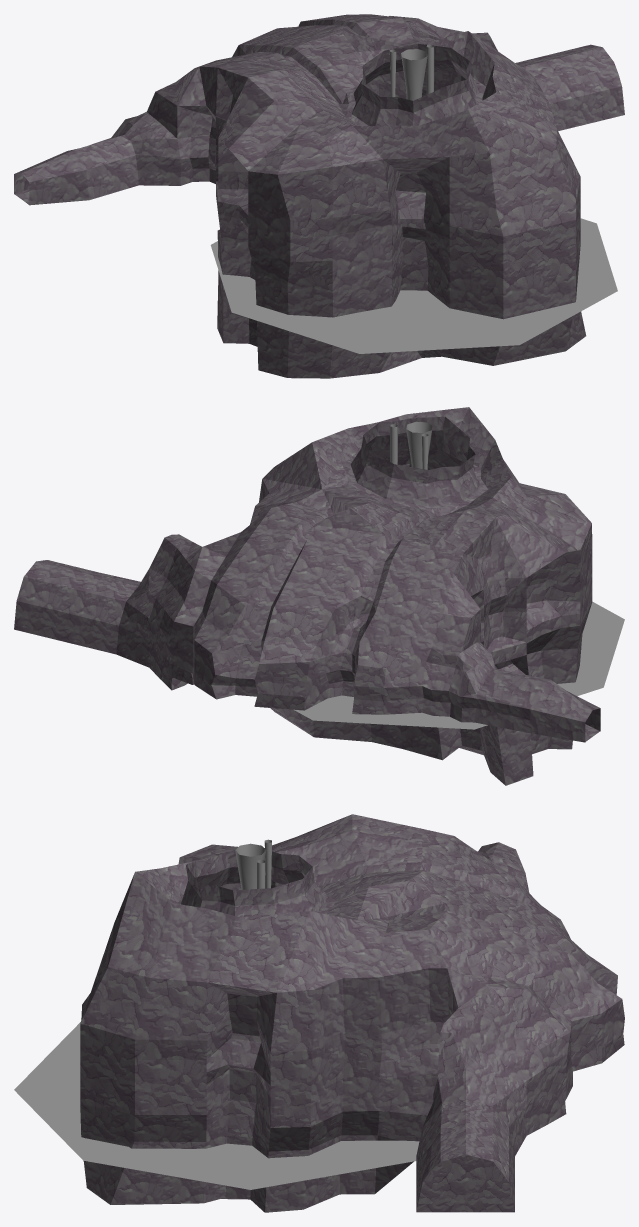
3 views of the same model, one above another, from view 1: azimuth 30°, elevation 25°; view 2: azimuth 150°, elevation 25°; view 3: azimuth 270°, elevation 25° (orthographic). The views are drawn at different scales.
Parts seen in each view (by area): view 1: lave_ncl1_1, lave; view 2: lave_ncl1_1, lave; view 3: lave_ncl1_1, lave.
Part boxes in pixels (x1,y1,x2,y2): lave_ncl1_1: (14,14,624,378); lave: (210,44,617,353); lave_ncl1_1: (14,407,600,785); lave: (294,421,624,729); lave_ncl1_1: (80,814,624,1212); lave: (14,839,419,1189).
Size of the model in its own units: 4467 by 2119 by 3714.
